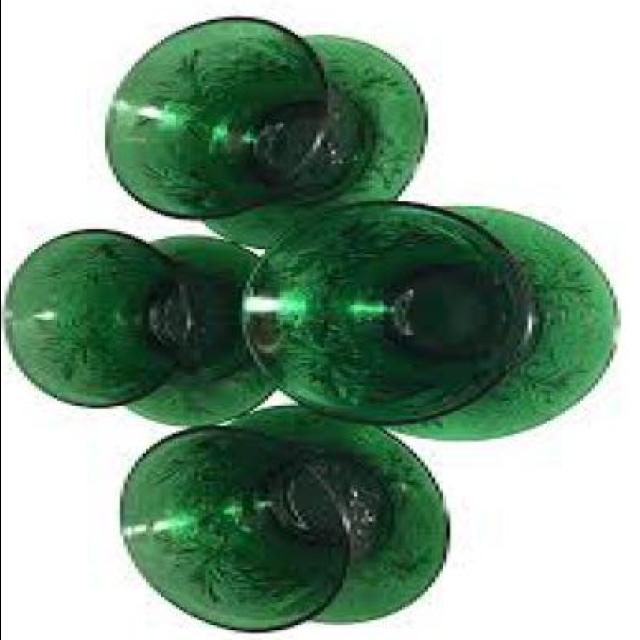kaca: (234, 204, 546, 426), (346, 210, 616, 440), (119, 429, 379, 635), (98, 20, 364, 221), (178, 36, 424, 250), (228, 406, 450, 626), (0, 231, 226, 411), (107, 239, 279, 429)
